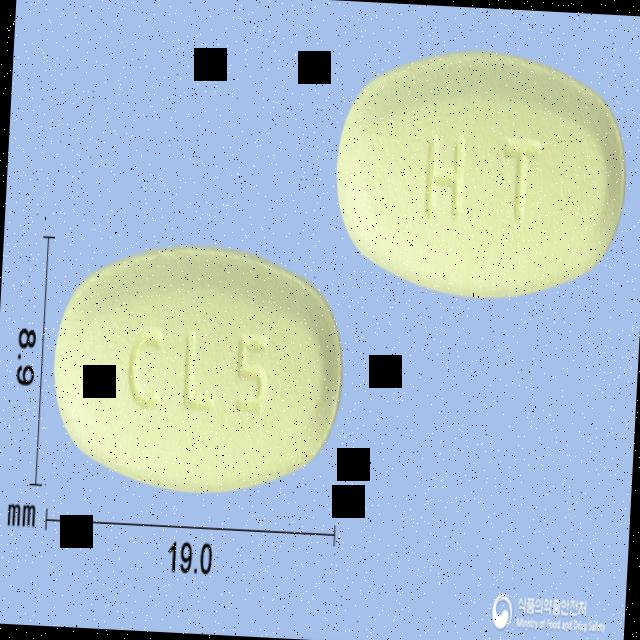Clathrocin: (327, 40, 635, 307), (48, 236, 352, 502)
